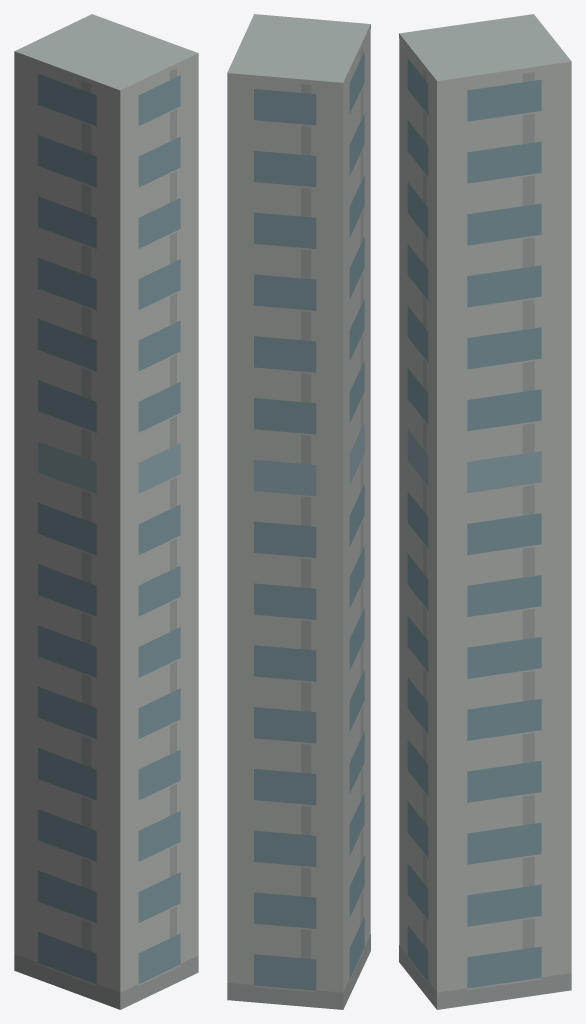
The model's file is survey-upis-32920394.glb.
3 renders of one model, left to right at view 1: azimuth 30°, elevation 25°; view 2: azimuth 150°, elevation 25°; view 3: azimuth 270°, elevation 25°, orthographic.
Visible parts, largest first — view 1: survey-upis-32920394.tmp; view 2: survey-upis-32920394.tmp; view 3: survey-upis-32920394.tmp.
Boxes of the visible parts, x1,y1,x2,y2 form: survey-upis-32920394.tmp: (14, 14, 198, 1009); survey-upis-32920394.tmp: (227, 14, 370, 1009); survey-upis-32920394.tmp: (399, 14, 571, 1009).
Size of the model in its own units: 7.1 by 45.75 by 7.71.
